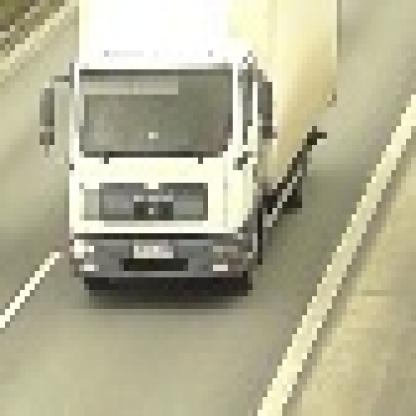truck: (36, 1, 338, 285)
